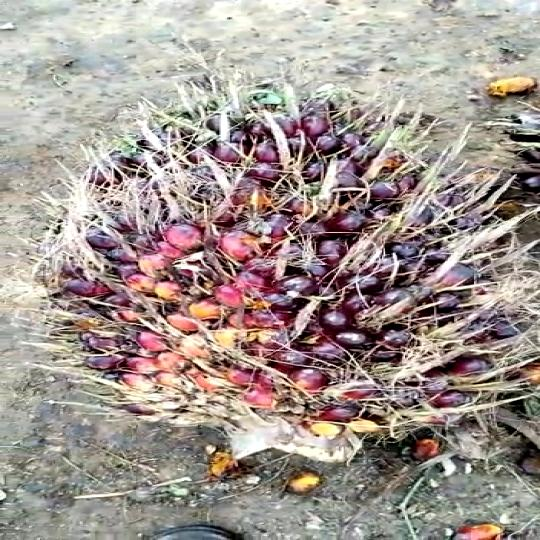kurang masak: (58, 89, 540, 454)
